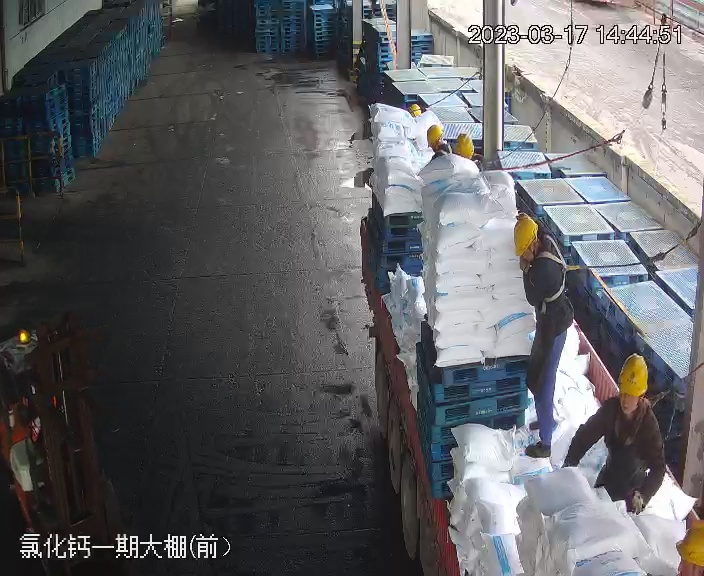belt: (528, 243, 580, 304), (610, 397, 665, 442)
head: (594, 352, 666, 435), (511, 215, 567, 282)
helmet: (672, 521, 704, 569), (616, 353, 649, 397), (511, 214, 538, 256), (454, 133, 475, 157), (425, 123, 445, 147), (408, 104, 422, 117)
people: (563, 355, 667, 520), (510, 216, 574, 459)
truck: (350, 127, 696, 576)
